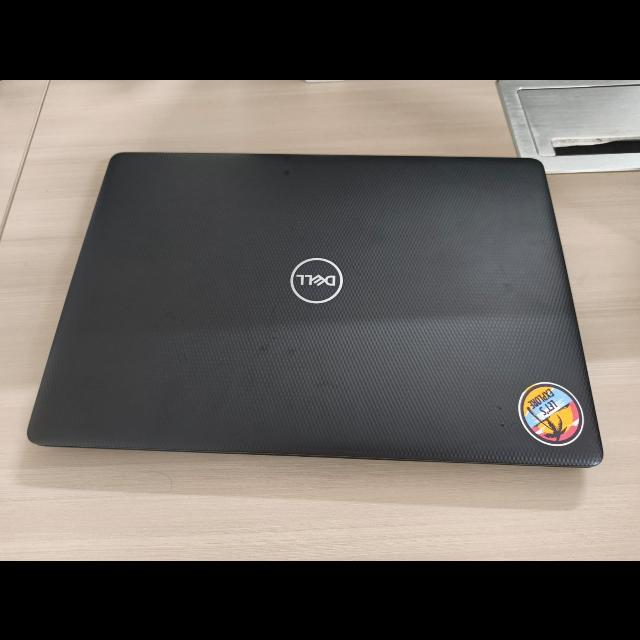laptop: (22, 140, 608, 498)
